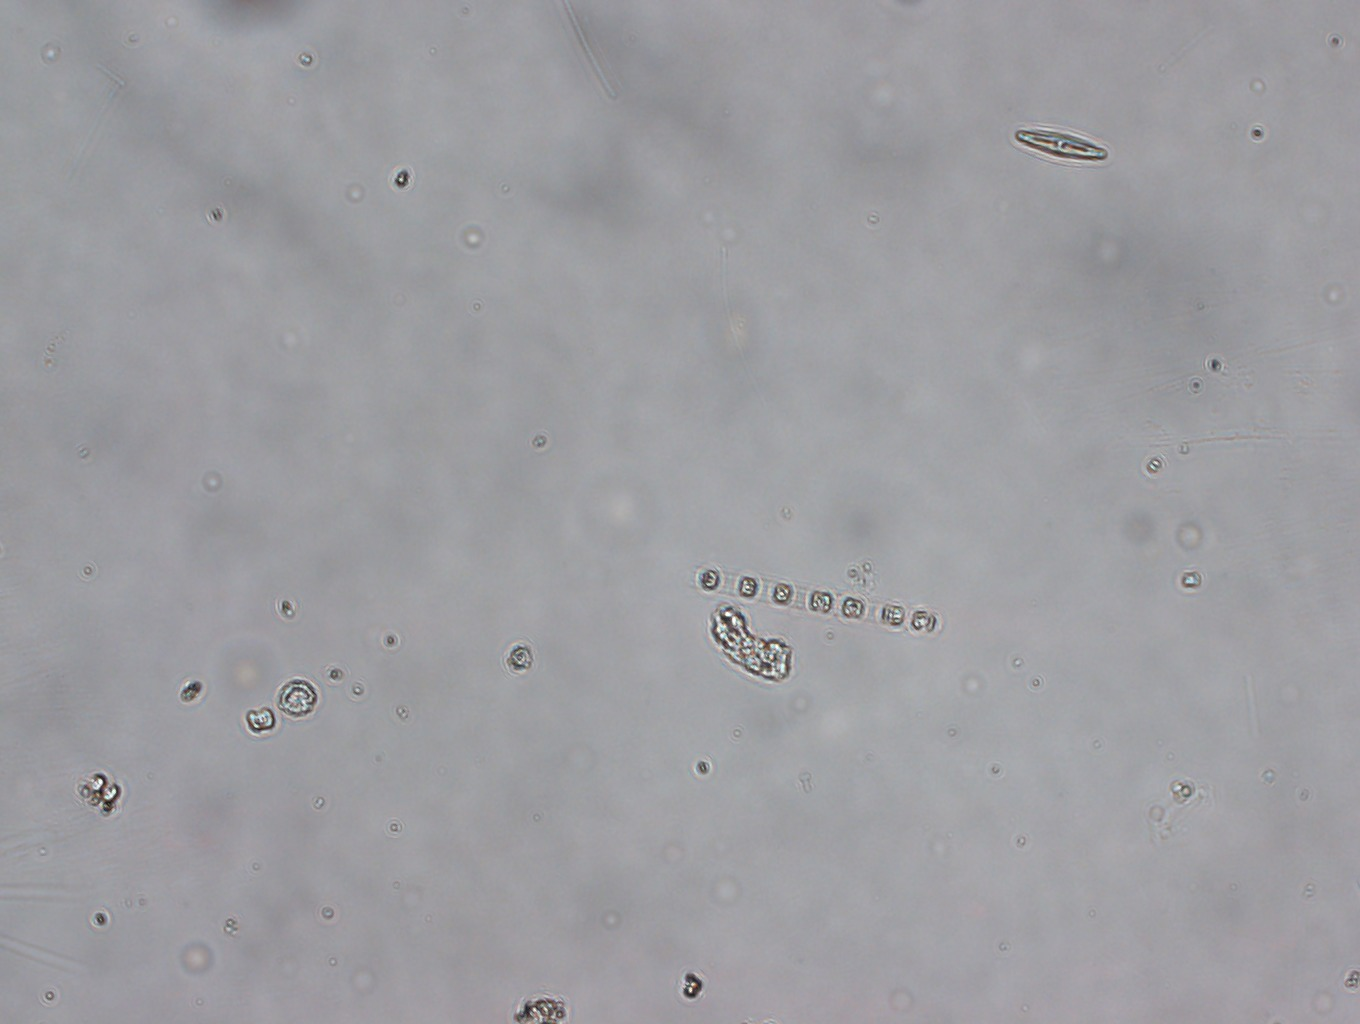navicula: (1012, 126, 1110, 165)
skeletonema: (685, 561, 947, 639)
